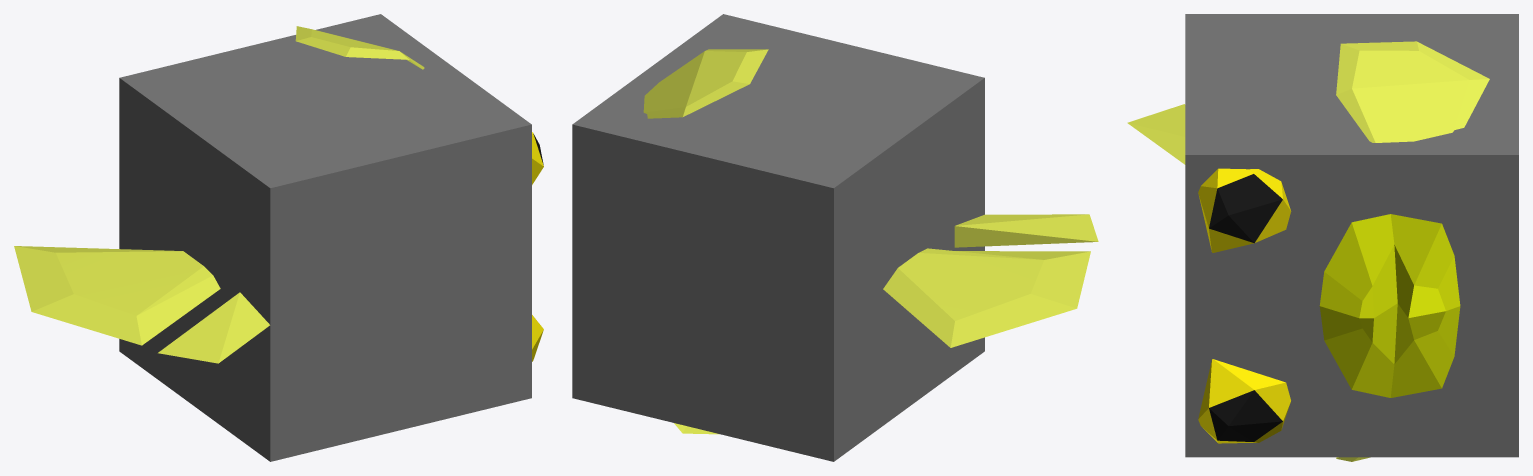
Rendered from YellowBoxfishDrip.glb.
3 renders of one model, left to right at view 1: azimuth 30°, elevation 25°; view 2: azimuth 150°, elevation 25°; view 3: azimuth 270°, elevation 25°, orthographic. The views are drawn at different scales.
Visible parts, largest first — view 1: YellowBoxfishDrip; view 2: YellowBoxfishDrip; view 3: YellowBoxfishDrip.
Boxes of the visible parts, <box> form: YellowBoxfishDrip: <box>14,14,543,461</box>; YellowBoxfishDrip: <box>572,14,1098,461</box>; YellowBoxfishDrip: <box>1127,14,1518,461</box>.
Bounding box in the file's own units: 0.2436 × 0.1857 × 0.1647.
1 material, 1 textured.
